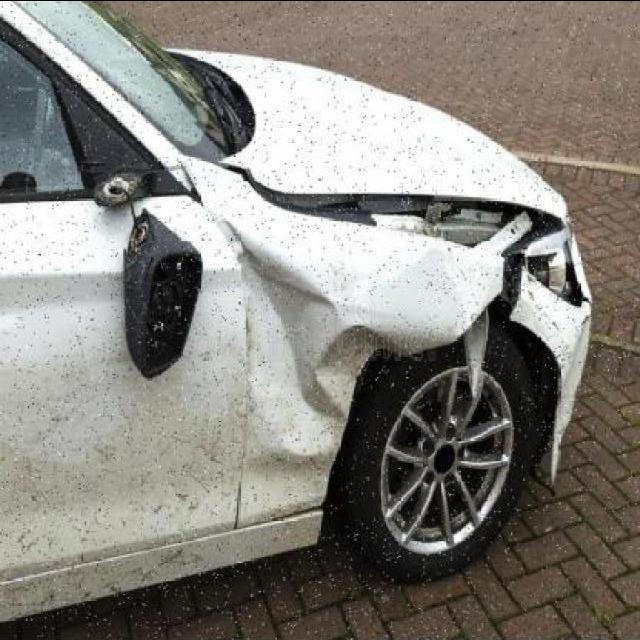Sidemirror-Damage: (108, 150, 201, 384)
fender-dent: (237, 206, 481, 488)
front-bumper-dent: (486, 198, 600, 495)
